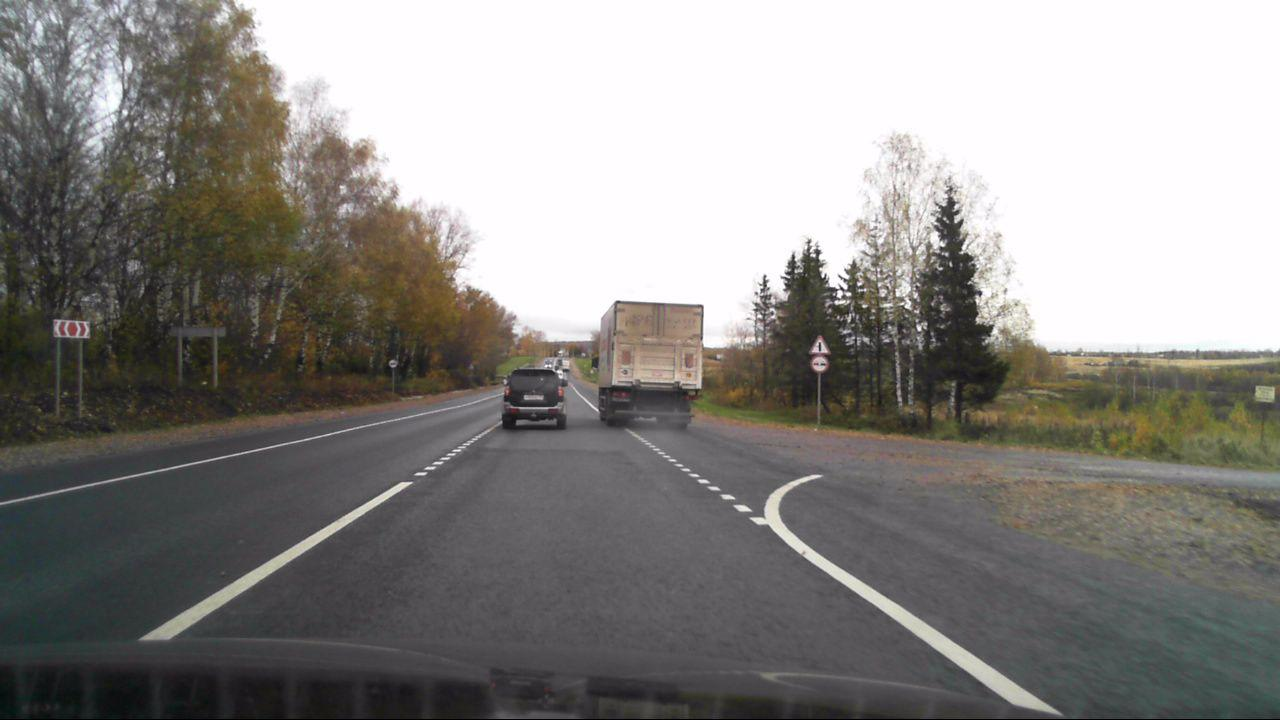2_3_3: (808, 334, 831, 354)
3_20: (810, 354, 829, 372)
